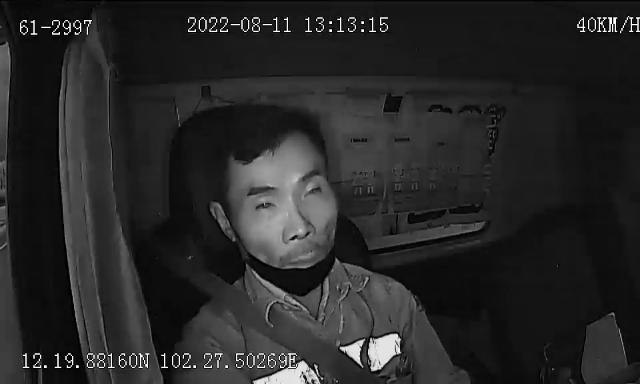SafeDriving: (418, 96, 461, 122), (297, 174, 327, 205), (249, 192, 282, 214)
Seatbelt: (156, 218, 392, 384)
